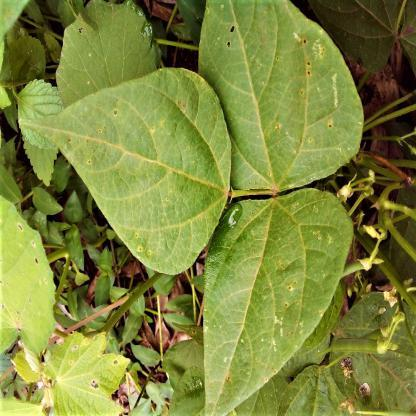Beans_Rust: (50, 69, 235, 265), (200, 194, 350, 416), (197, 0, 364, 195)
